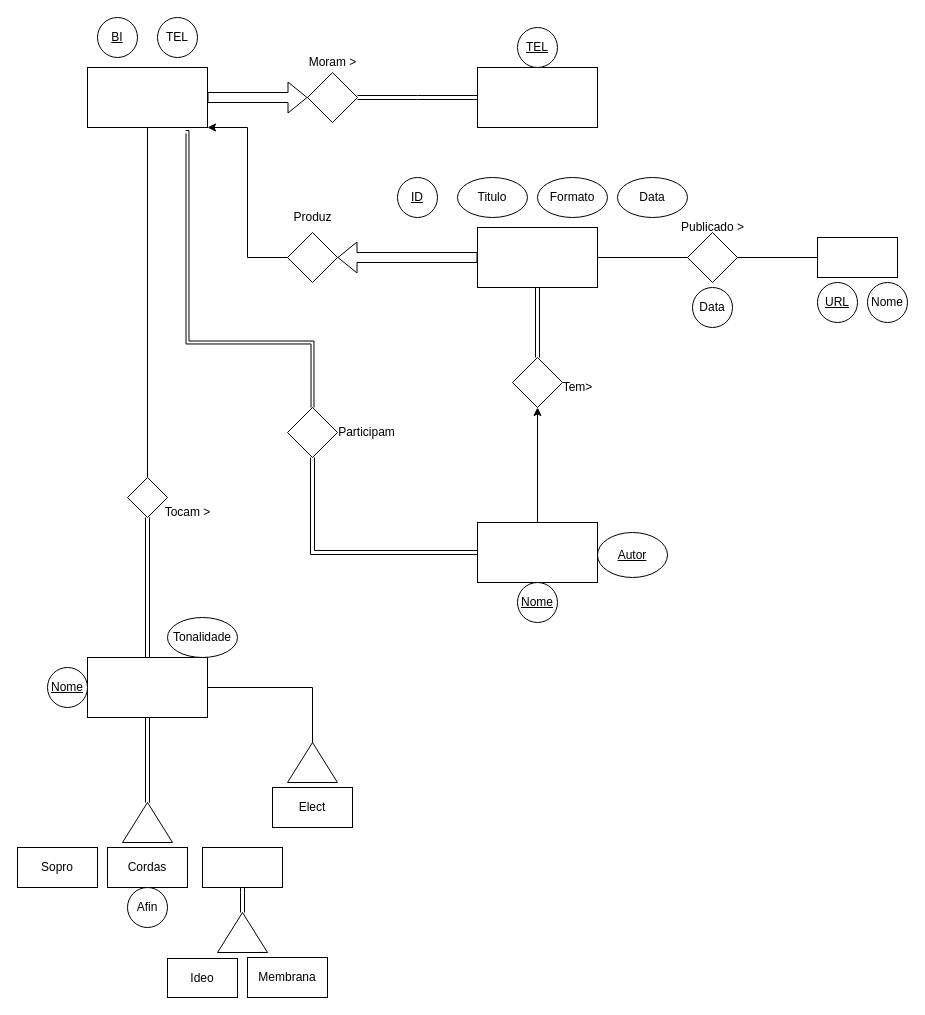
Image size: 925x1015. Some labels were removed from this diagram. Each missing label, with the centre of its shape:
Album: (x=537, y=257)
Canal: (x=857, y=257)
Instrumento: (x=147, y=687)
Morada: (x=537, y=97)
Musica: (x=537, y=552)
Musico: (x=147, y=97)
Percurssao: (x=242, y=867)
